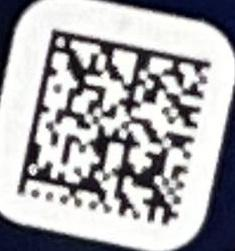datamatrix: (18, 30, 212, 228)
